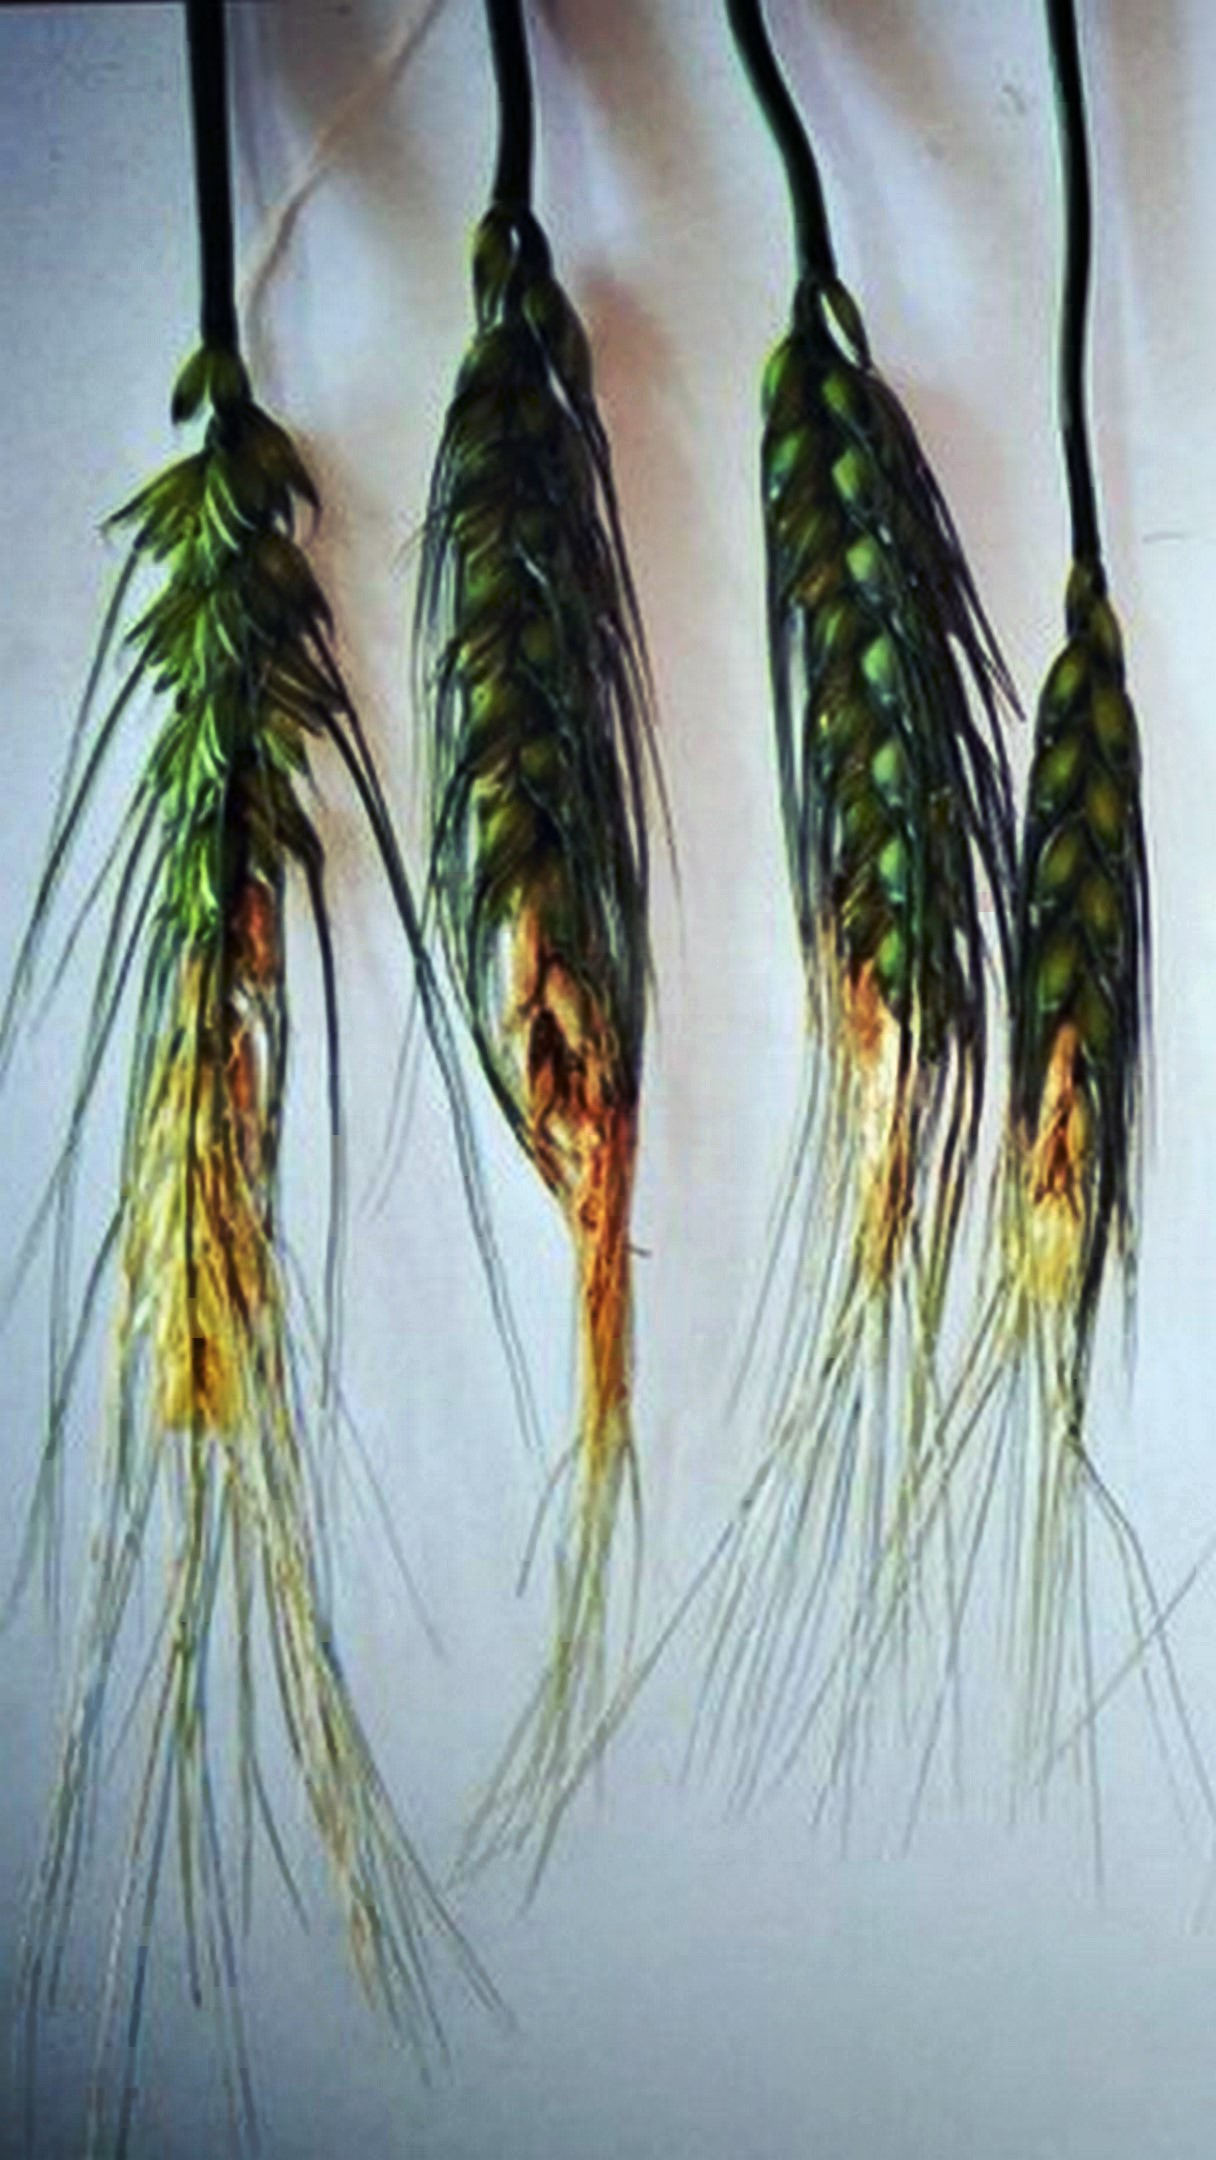Wheat scab: (725, 240, 1216, 1417), (356, 196, 698, 1248), (67, 323, 348, 1498)
